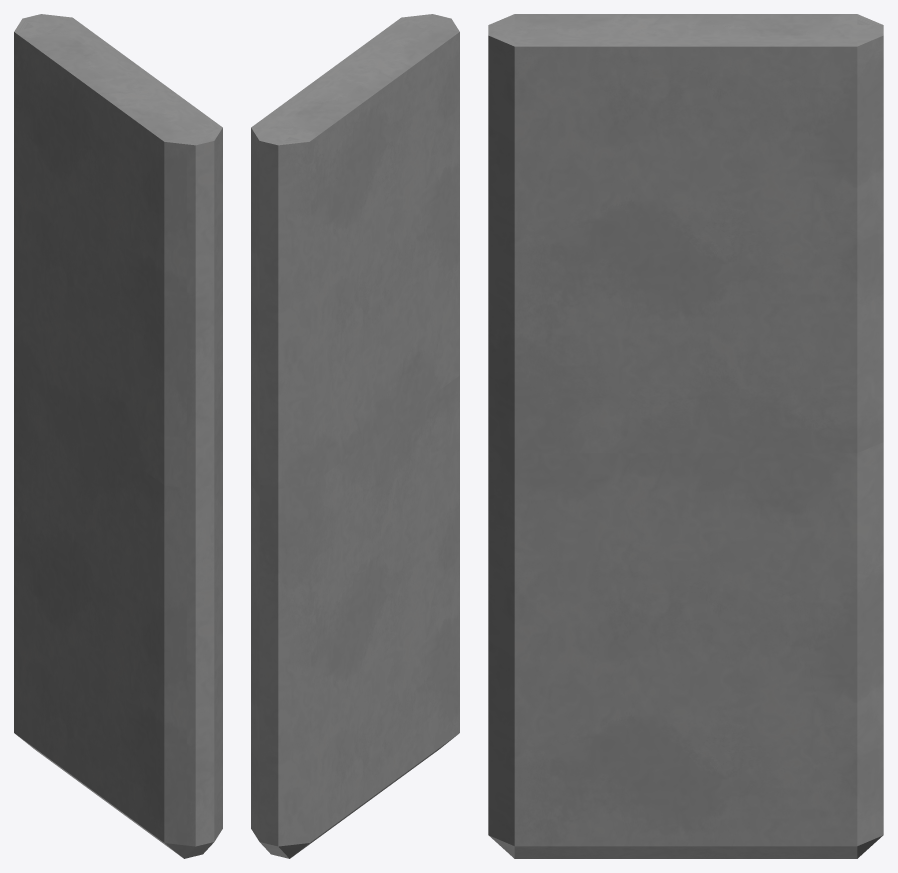
File: mod_structure_foresttablet.fbx
The picture shows the model from 3 angles, left to right: view 1: azimuth 30°, elevation 25°; view 2: azimuth 150°, elevation 25°; view 3: azimuth 270°, elevation 25°; orthographic projection. The views are drawn at different scales.
Parts seen in each view (by area): view 1: mesh_foresttablet; view 2: mesh_foresttablet; view 3: mesh_foresttablet.
Part boxes in pixels (x1=…): mesh_foresttablet: x1=14, y1=14, x2=222, y2=858; mesh_foresttablet: x1=251, y1=14, x2=459, y2=858; mesh_foresttablet: x1=488, y1=14, x2=883, y2=858.
Bounding box in the file's own units: 100 × 1177 × 512.
